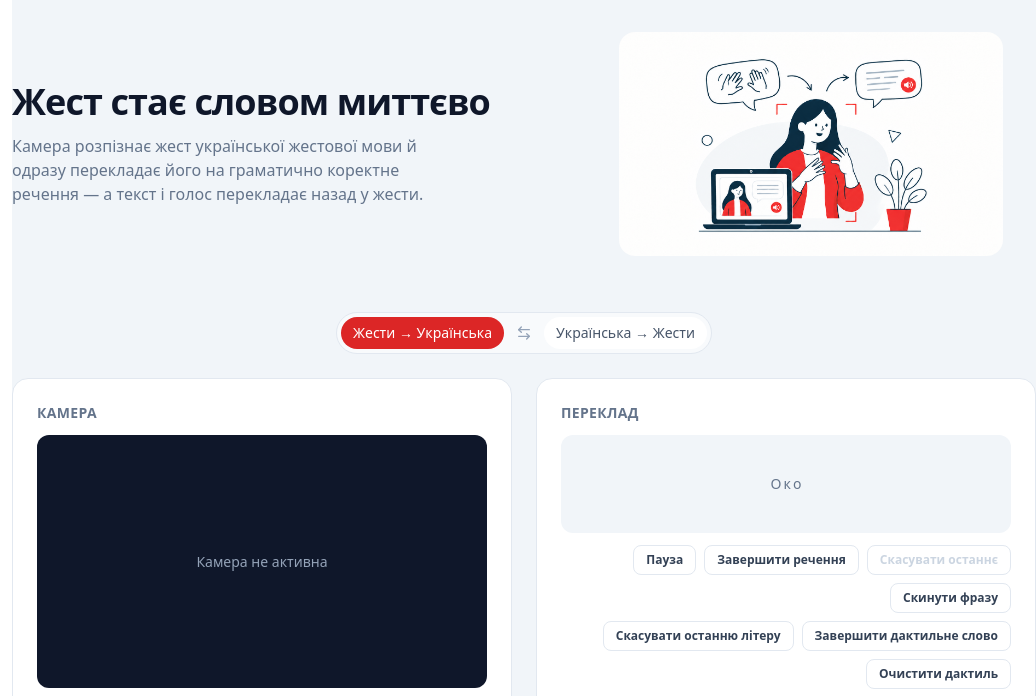
Test: TranslatorView › 'Завершити дактильне слово' manually finalizes the buffer without waiting for a boundary event
Expected: the element with test id "fingerspelling-controls" is shown, [561,621,1011,689]
What coordinates should you click on to do the following:
click the button "Завершити дактильне слово"
I would click on:
 (906, 636)
Its box is [802,621,1011,651].
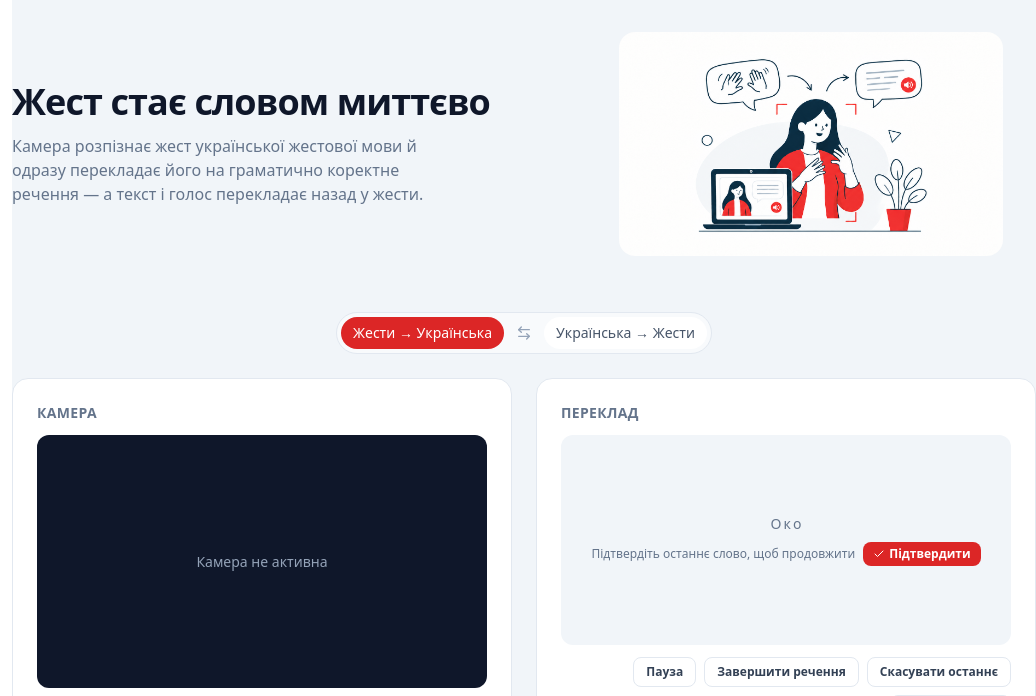
Expected: the element with test id "fingerspelling-controls" is gone
